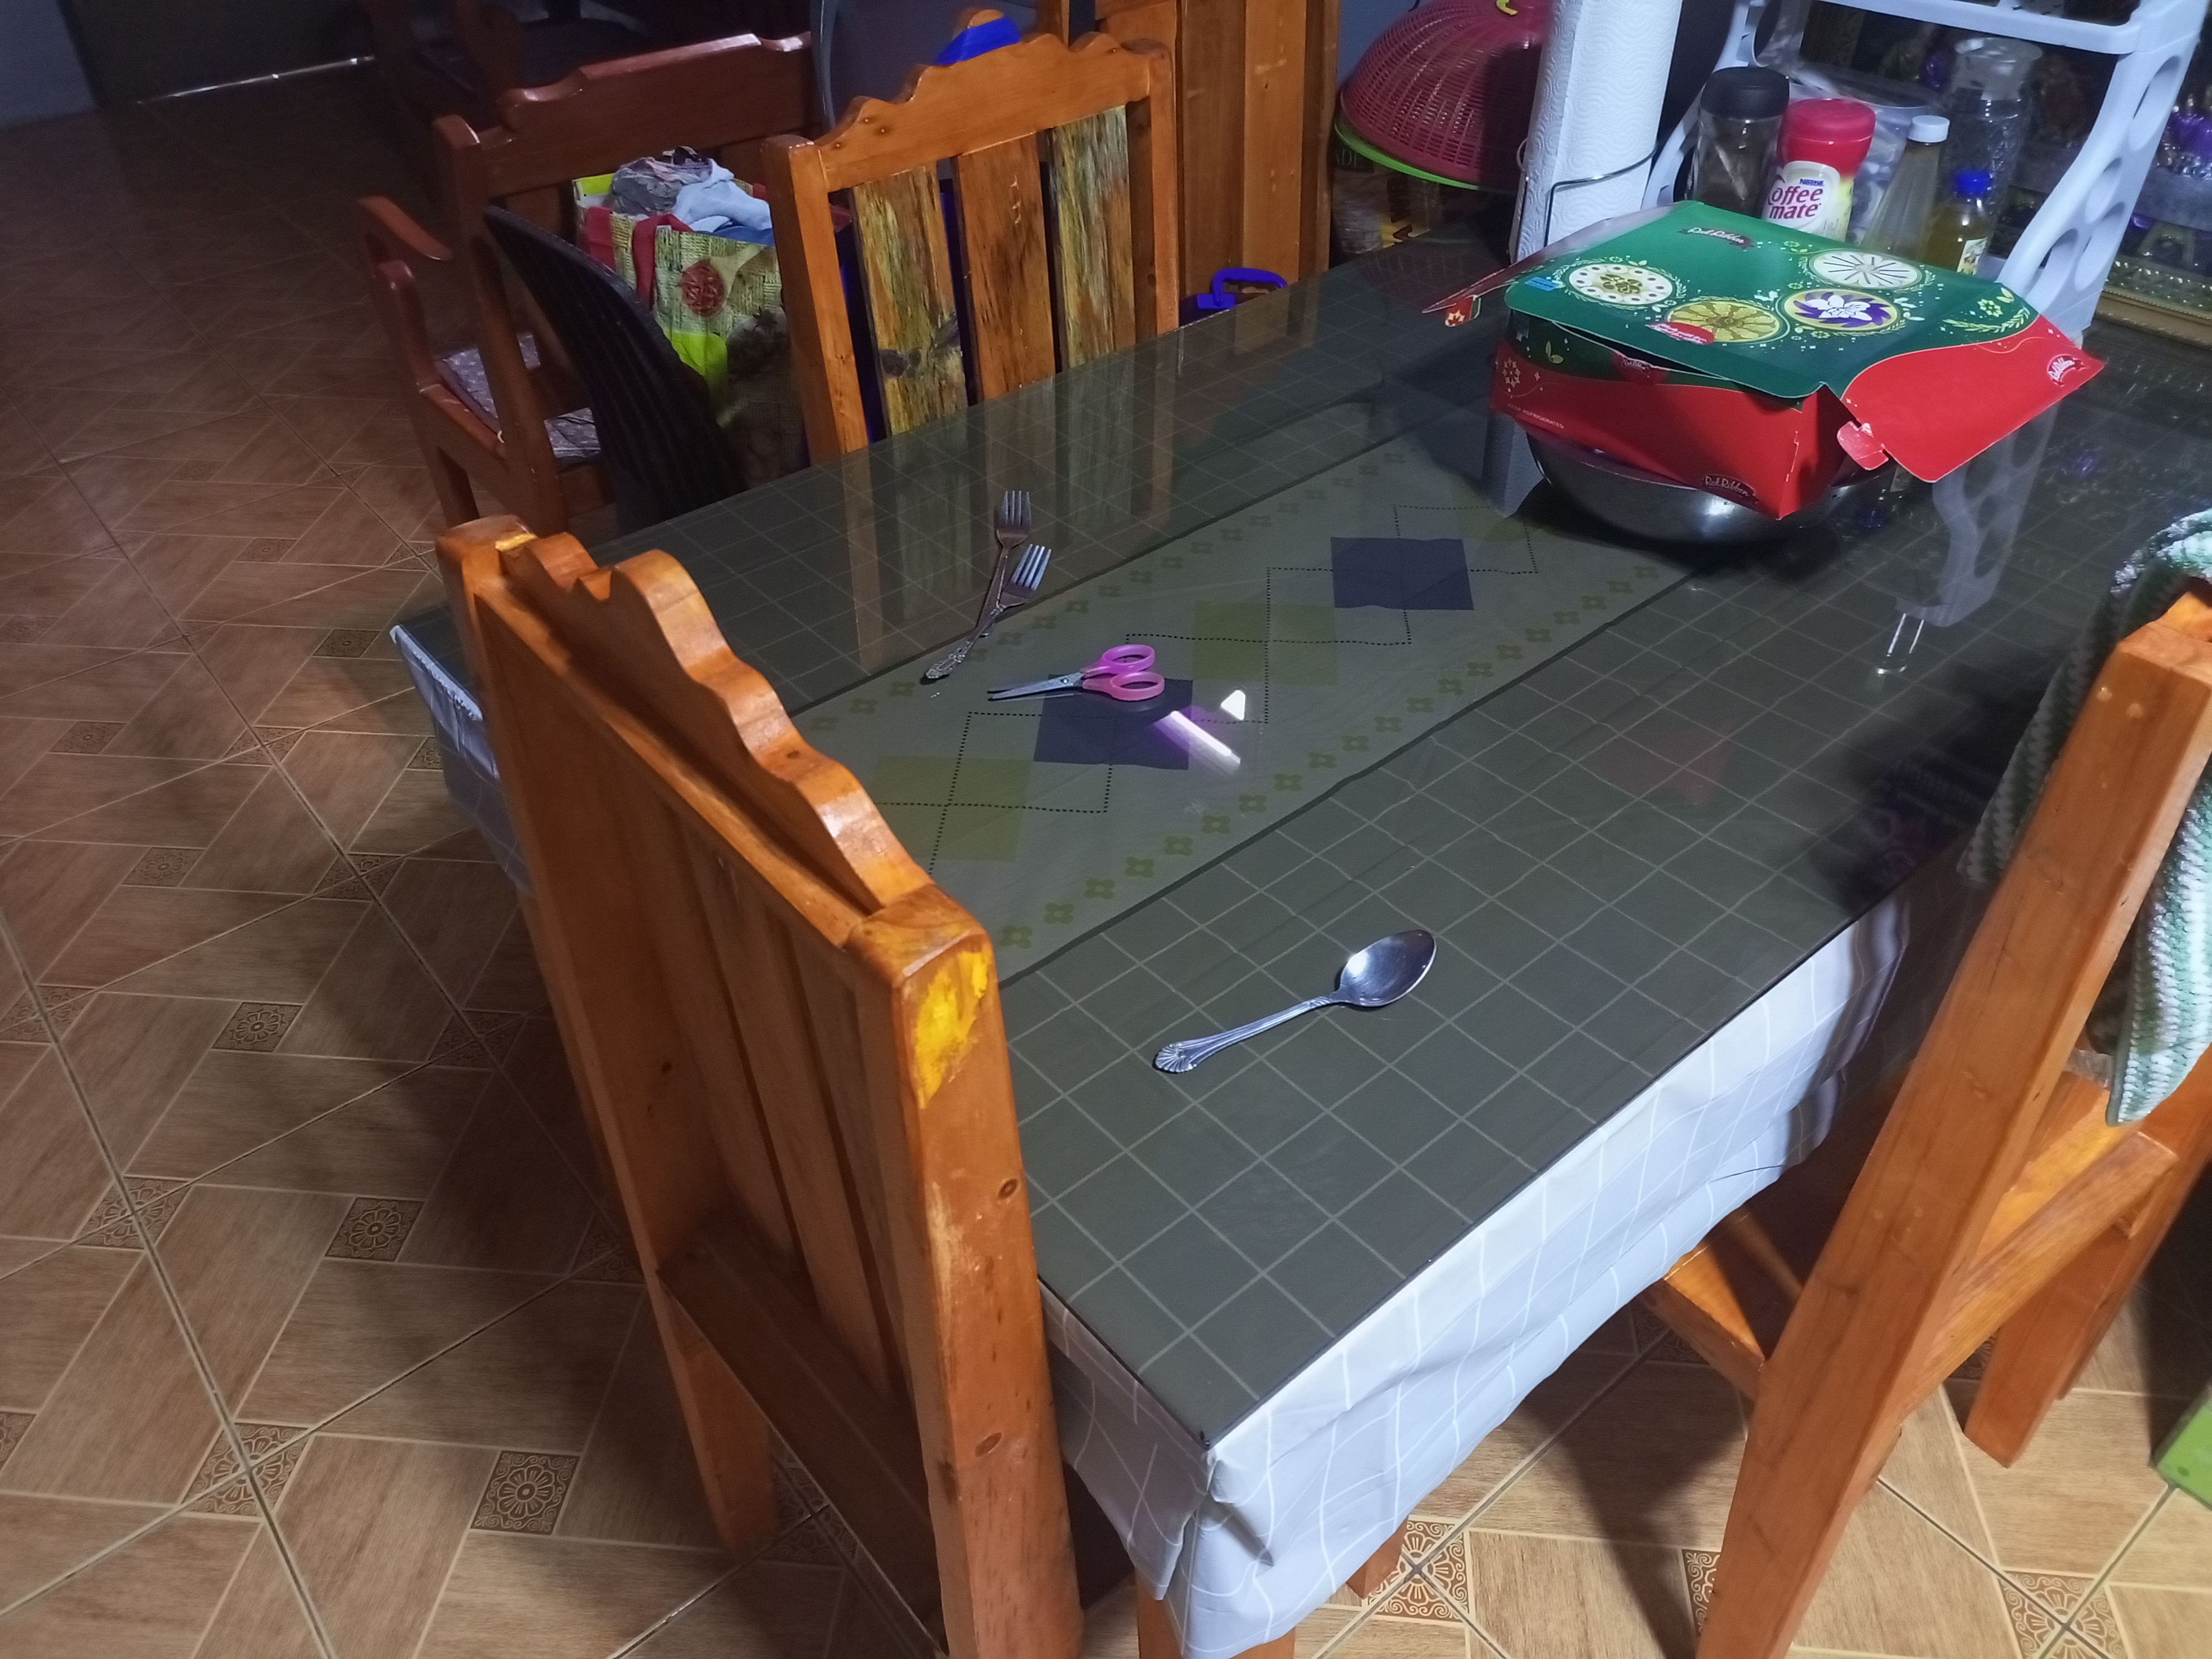spoon: (1153, 924, 1442, 1080)
